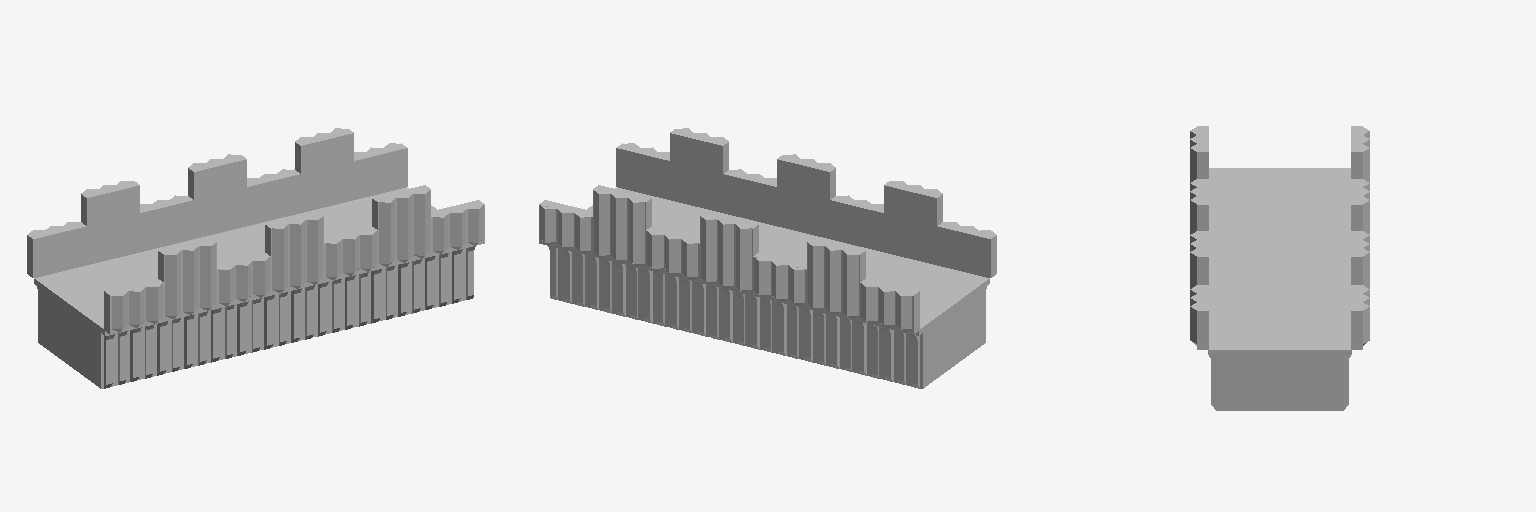
Rendered from MainWall.obj.
The picture shows the model from 3 angles: view 1: azimuth 30°, elevation 25°; view 2: azimuth 150°, elevation 25°; view 3: azimuth 270°, elevation 25°; orthographic projection.
Parts seen in each view (by area): view 1: 円柱.001_円柱.014; view 2: 円柱.001_円柱.014; view 3: 円柱.001_円柱.014.
Boxes of the visible parts, x1=… form: 円柱.001_円柱.014: x1=27, y1=128, x2=484, y2=388; 円柱.001_円柱.014: x1=539, y1=128, x2=996, y2=388; 円柱.001_円柱.014: x1=1190, y1=126, x2=1369, y2=410.
Size of the model in its own units: 14 by 4.6 by 5.83.